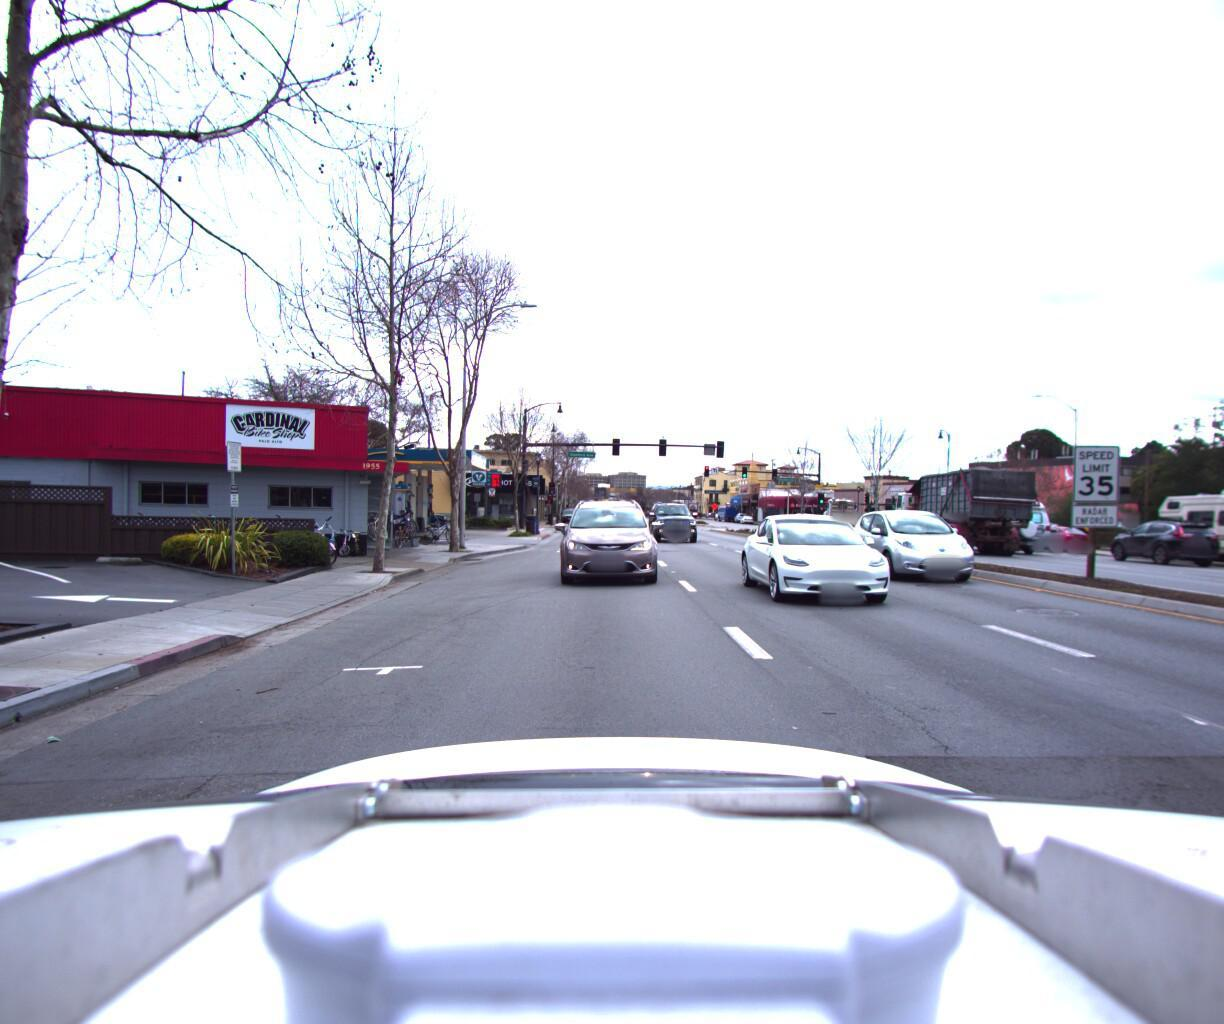bicycle: (418, 513, 461, 541), (378, 502, 421, 531), (378, 502, 420, 531), (418, 511, 460, 539), (363, 504, 393, 536), (392, 513, 418, 543), (335, 522, 351, 554), (348, 525, 363, 554)
car: (750, 508, 944, 620), (863, 504, 1025, 592), (552, 486, 660, 589), (948, 493, 1061, 553), (1102, 513, 1224, 565), (648, 496, 703, 544), (1025, 518, 1101, 552)
other_vehicle: (1146, 476, 1224, 577)
truck: (881, 455, 1053, 554), (809, 489, 954, 544)
